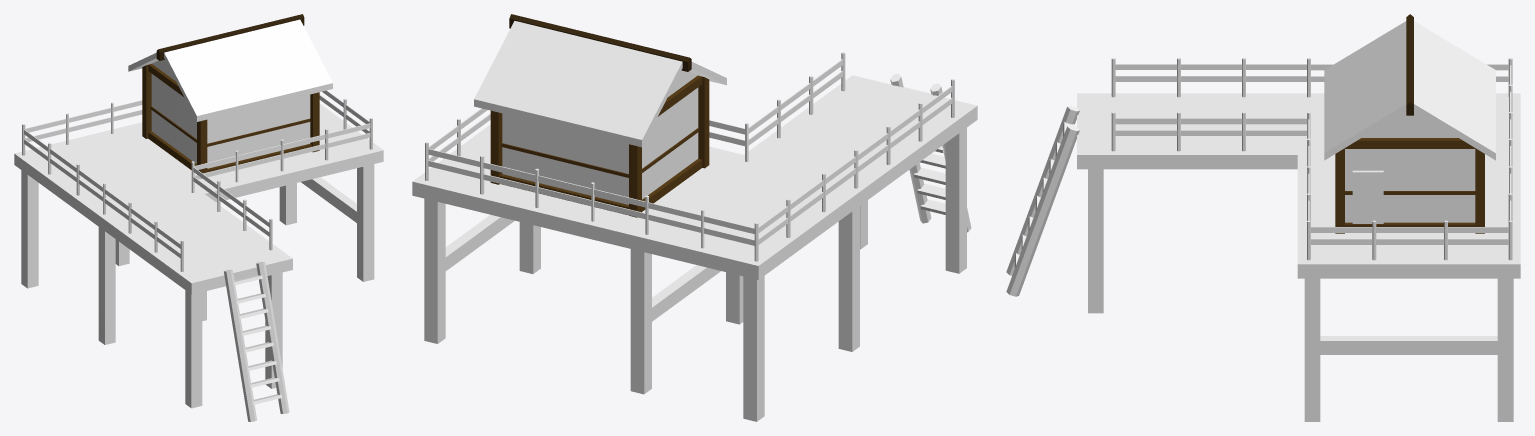
Rendered from QuarryHouse(3).fbx.
3 renders of one model, left to right at view 1: azimuth 30°, elevation 25°; view 2: azimuth 150°, elevation 25°; view 3: azimuth 270°, elevation 25°, orthographic. The views are drawn at different scales.
Parts seen in each view (by area): view 1: QuarryHouse(3); view 2: QuarryHouse(3); view 3: QuarryHouse(3).
Part boxes in pixels (x1,y1,x2,y2): QuarryHouse(3): (14, 14, 383, 421); QuarryHouse(3): (412, 14, 977, 421); QuarryHouse(3): (1006, 14, 1520, 421).
Size of the model in its own units: 11.38 by 9.36 by 14.46.
